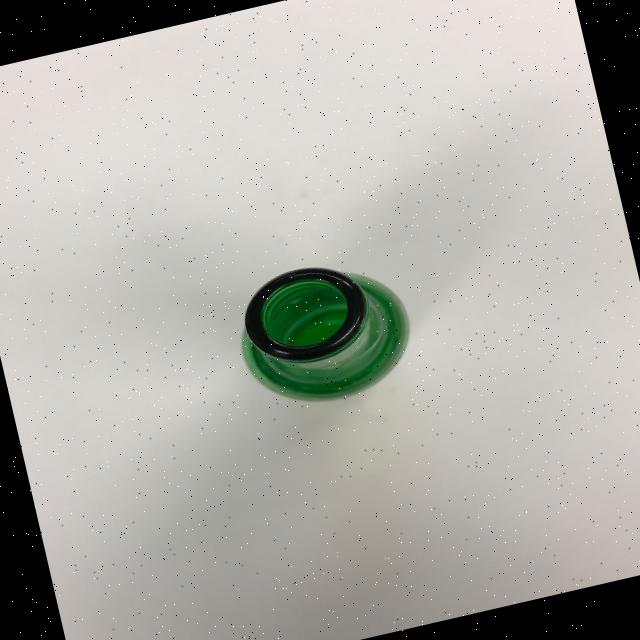glass: (224, 245, 423, 418)
